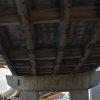Bridge: (6, 7, 93, 94)
